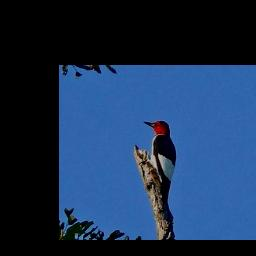Woodpecker: (139, 113, 185, 221)
